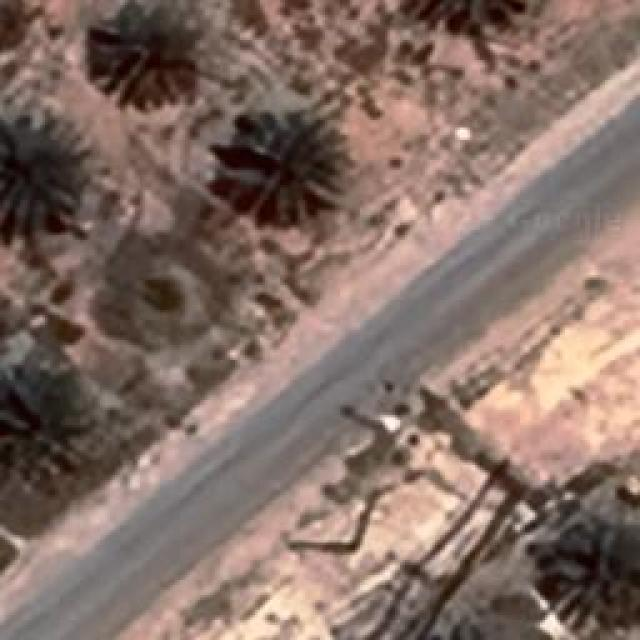PalmTree: (101, 16, 468, 106), (42, 106, 101, 416), (220, 110, 345, 222), (88, 2, 200, 108), (544, 522, 638, 636), (0, 113, 80, 230), (0, 0, 28, 58)
